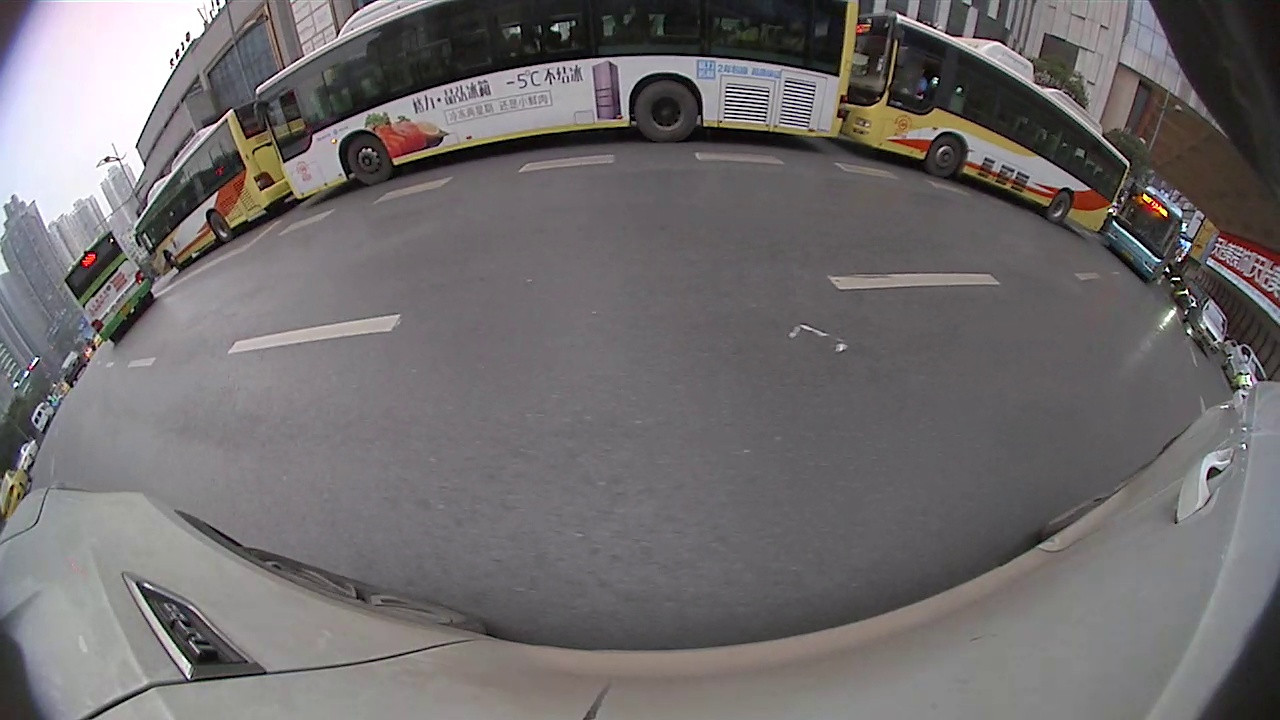bus: (252, 1, 861, 209), (838, 11, 1132, 240), (130, 92, 306, 282), (56, 227, 154, 341), (1097, 186, 1192, 284)
car: (1187, 292, 1234, 358)
front: (344, 134, 392, 186), (929, 133, 967, 178)
rear: (636, 80, 704, 144), (202, 210, 237, 244), (1051, 188, 1073, 222)
